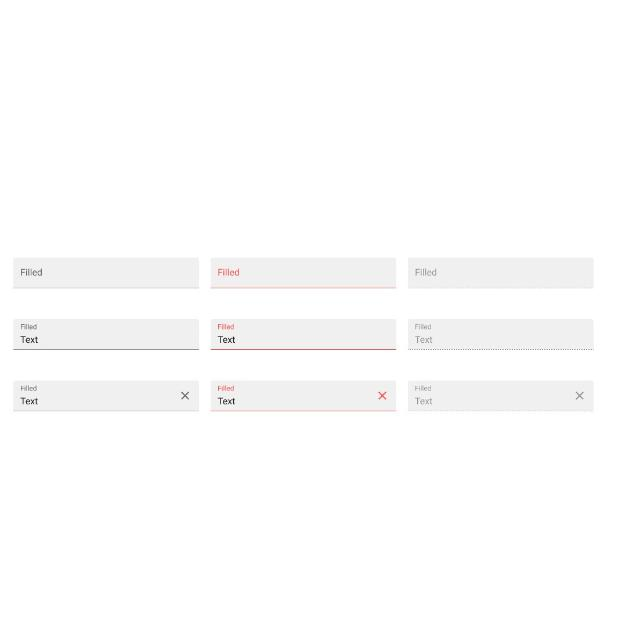VTextField: (12, 378, 200, 412), (210, 378, 398, 412), (407, 378, 595, 412), (12, 256, 200, 288), (210, 256, 398, 288), (12, 318, 200, 350), (408, 257, 594, 289), (210, 317, 396, 349), (408, 318, 594, 350)
